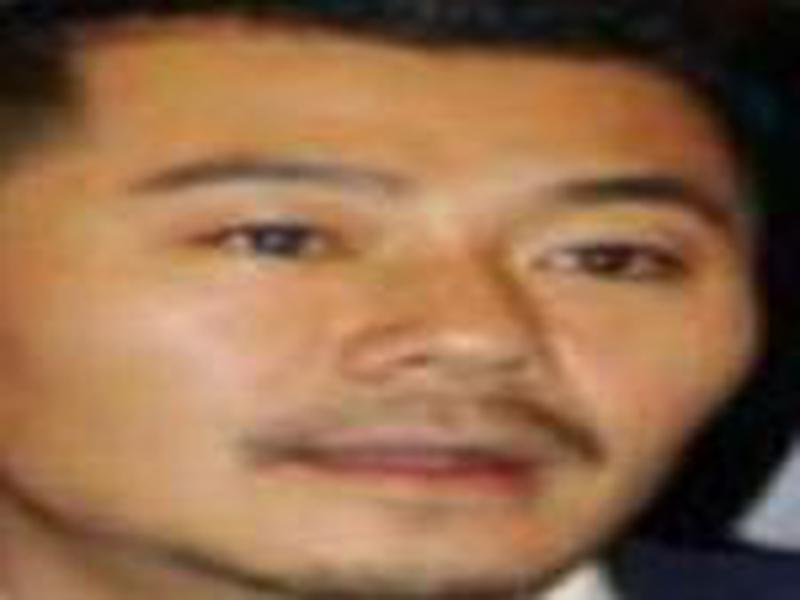without_mask: (38, 36, 761, 600)
